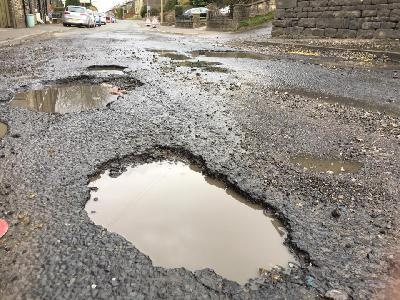pothole: (79, 139, 315, 288), (5, 72, 146, 113), (287, 150, 366, 177), (84, 62, 129, 74), (0, 118, 10, 139)
